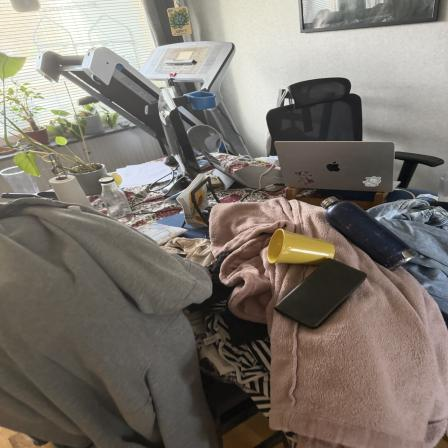blue_bottle: (320, 197, 422, 273)
phone: (277, 258, 369, 328)
yellow_cup: (265, 227, 338, 266)
